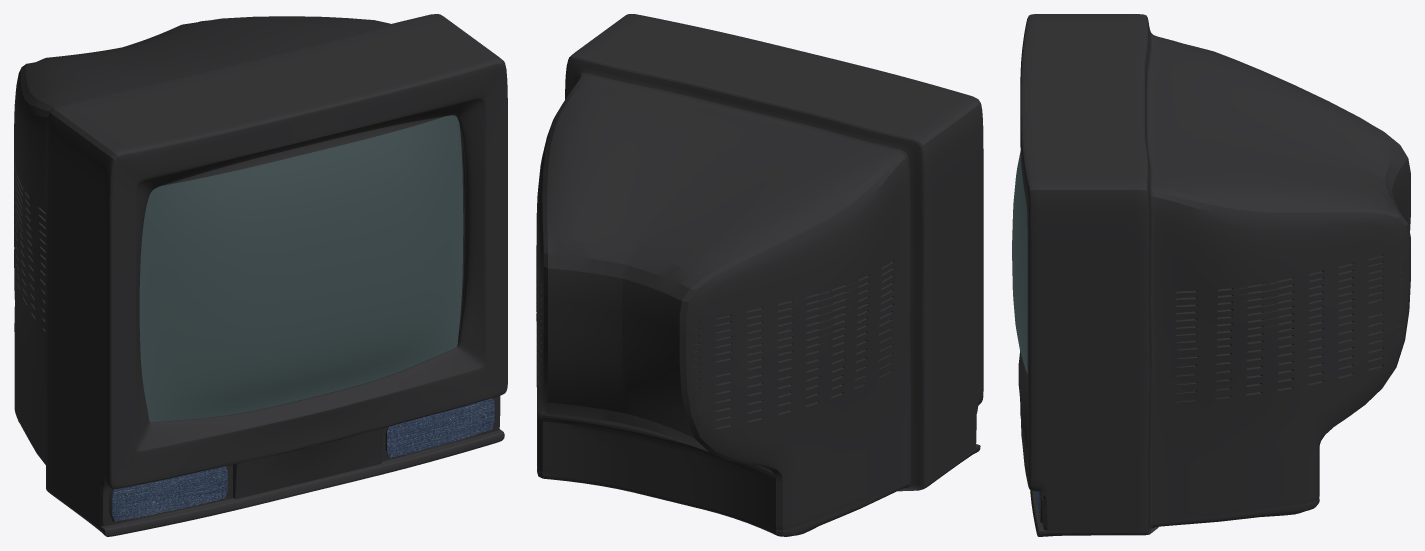
Rendered from crt.glb.
3 renders of one model, left to right at view 1: azimuth 30°, elevation 25°; view 2: azimuth 150°, elevation 25°; view 3: azimuth 270°, elevation 25°, orthographic. The views are drawn at different scales.
Visible parts, largest first — view 1: CRT; view 2: CRT; view 3: CRT.
Boxes of the visible parts, x1=… form: CRT: x1=14, y1=14, x2=507, y2=536; CRT: x1=536, y1=14, x2=983, y2=536; CRT: x1=1012, y1=14, x2=1410, y2=536.
Bounding box in the file's own units: 2 × 1.86 × 1.9.
3 materials, 1 textured.
